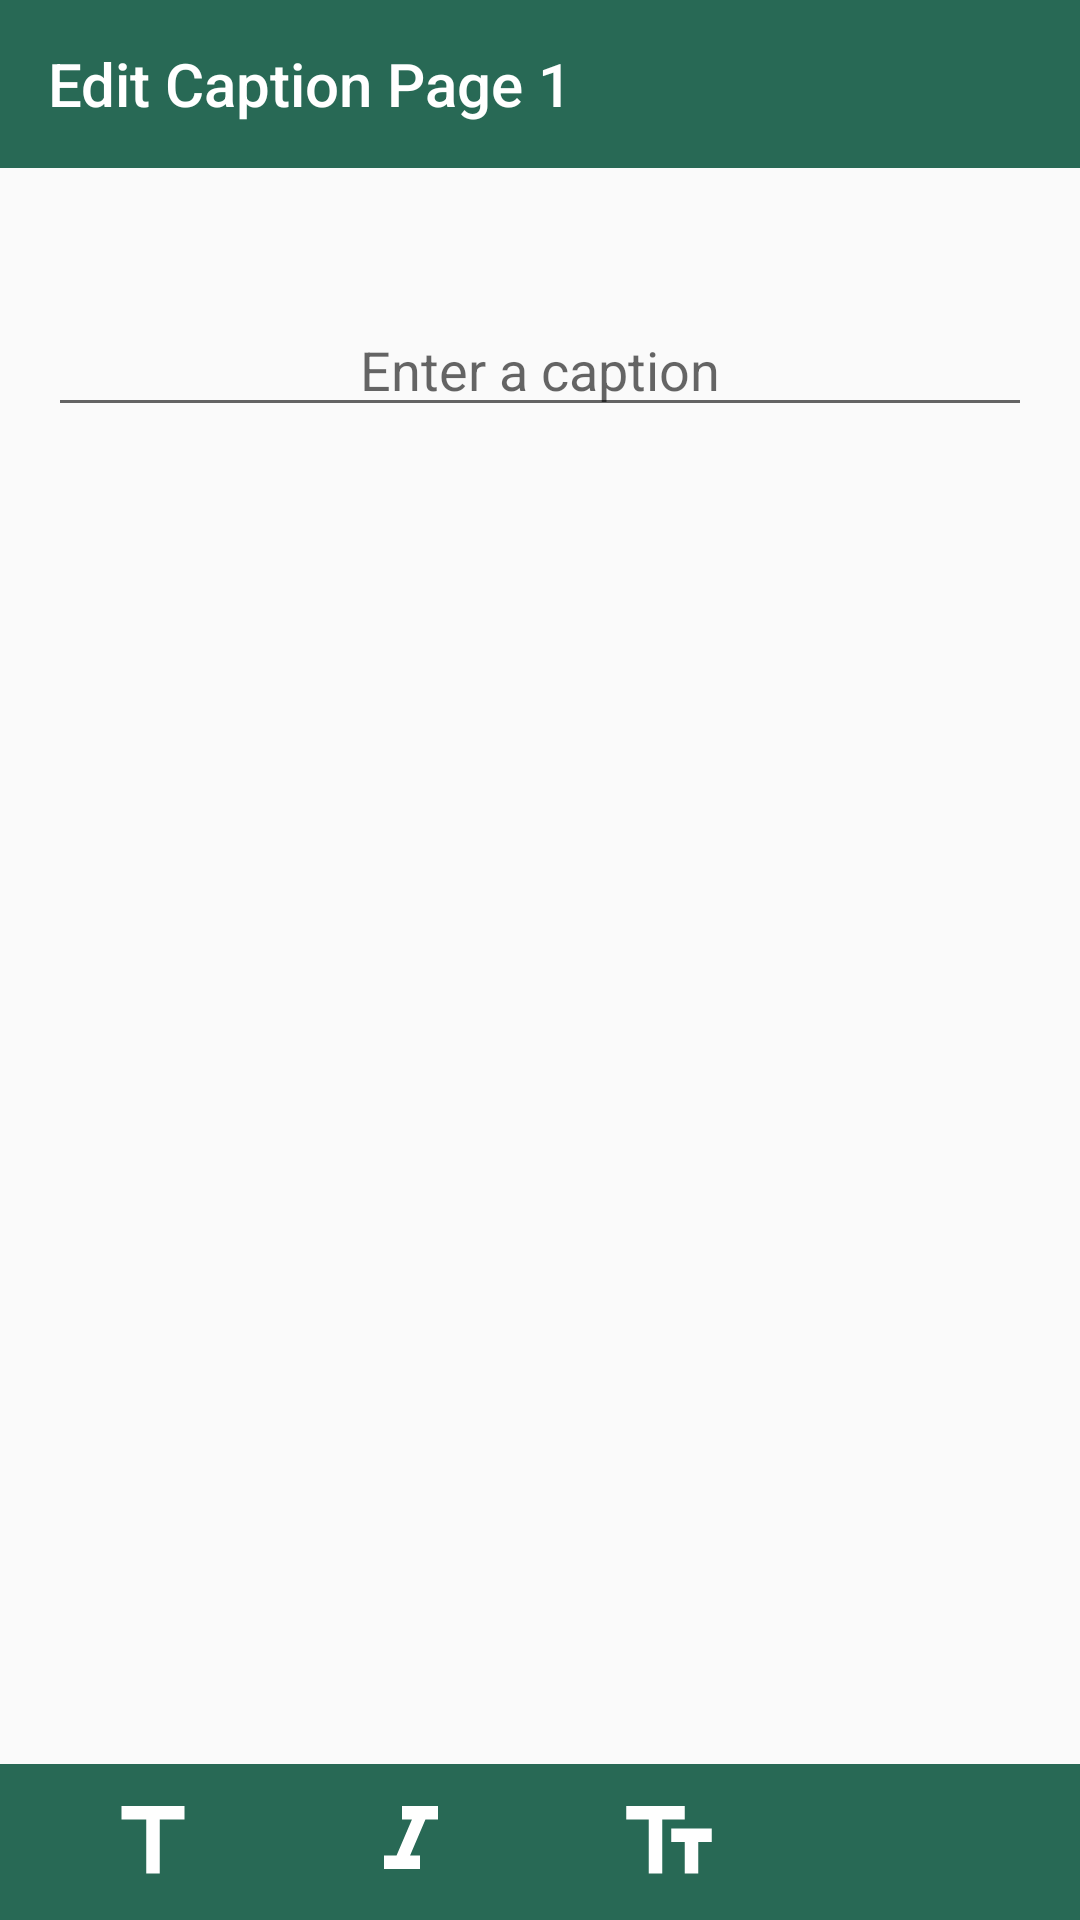

Locate icon controls on the screen. Image size 1080 × 1920, boxes as Rect(x1, y1, x2, y2).
italic: Rect(384, 1806, 438, 1869)
text: Rect(121, 1806, 185, 1874)
